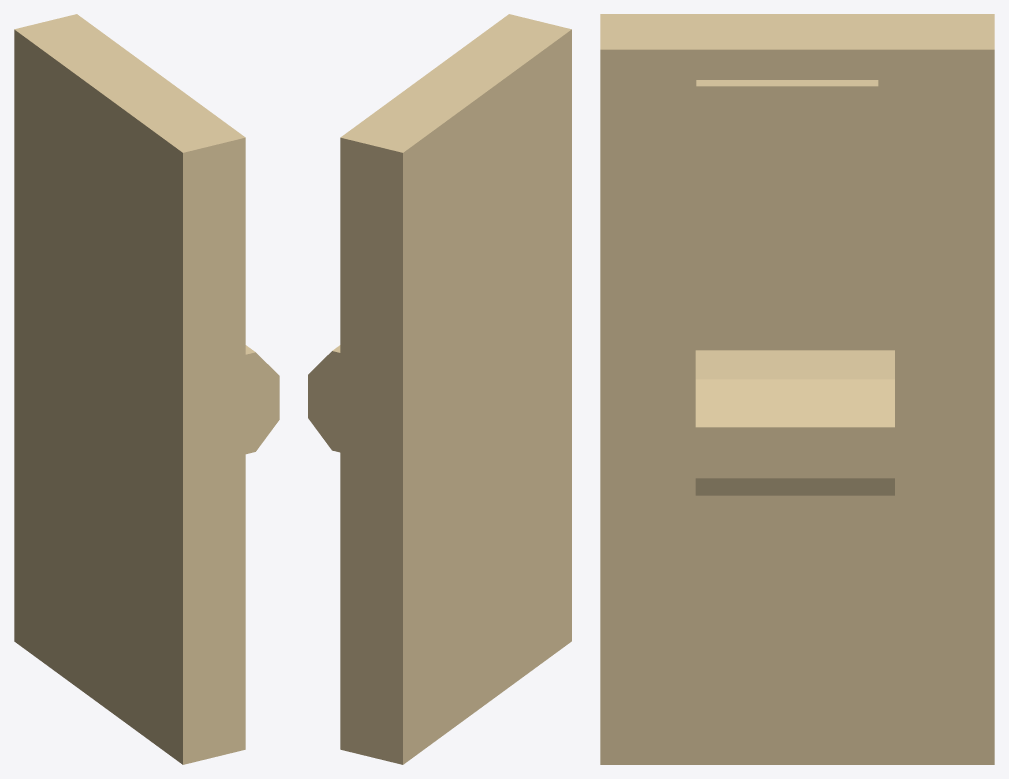
Rendered from PowerSwitchBase.fbx.
The picture shows the model from 3 angles, left to right: view 1: azimuth 30°, elevation 25°; view 2: azimuth 150°, elevation 25°; view 3: azimuth 270°, elevation 25°; orthographic projection. The views are drawn at different scales.
Parts seen in each view (by area): view 1: Cube; view 2: Cube; view 3: Cube.
Part boxes in pixels (x1=…): Cube: x1=14, y1=14, x2=279, y2=764; Cube: x1=308, y1=14, x2=571, y2=764; Cube: x1=600, y1=14, x2=994, y2=764.
Bounding box in the file's own units: 94.18 × 400 × 200.
